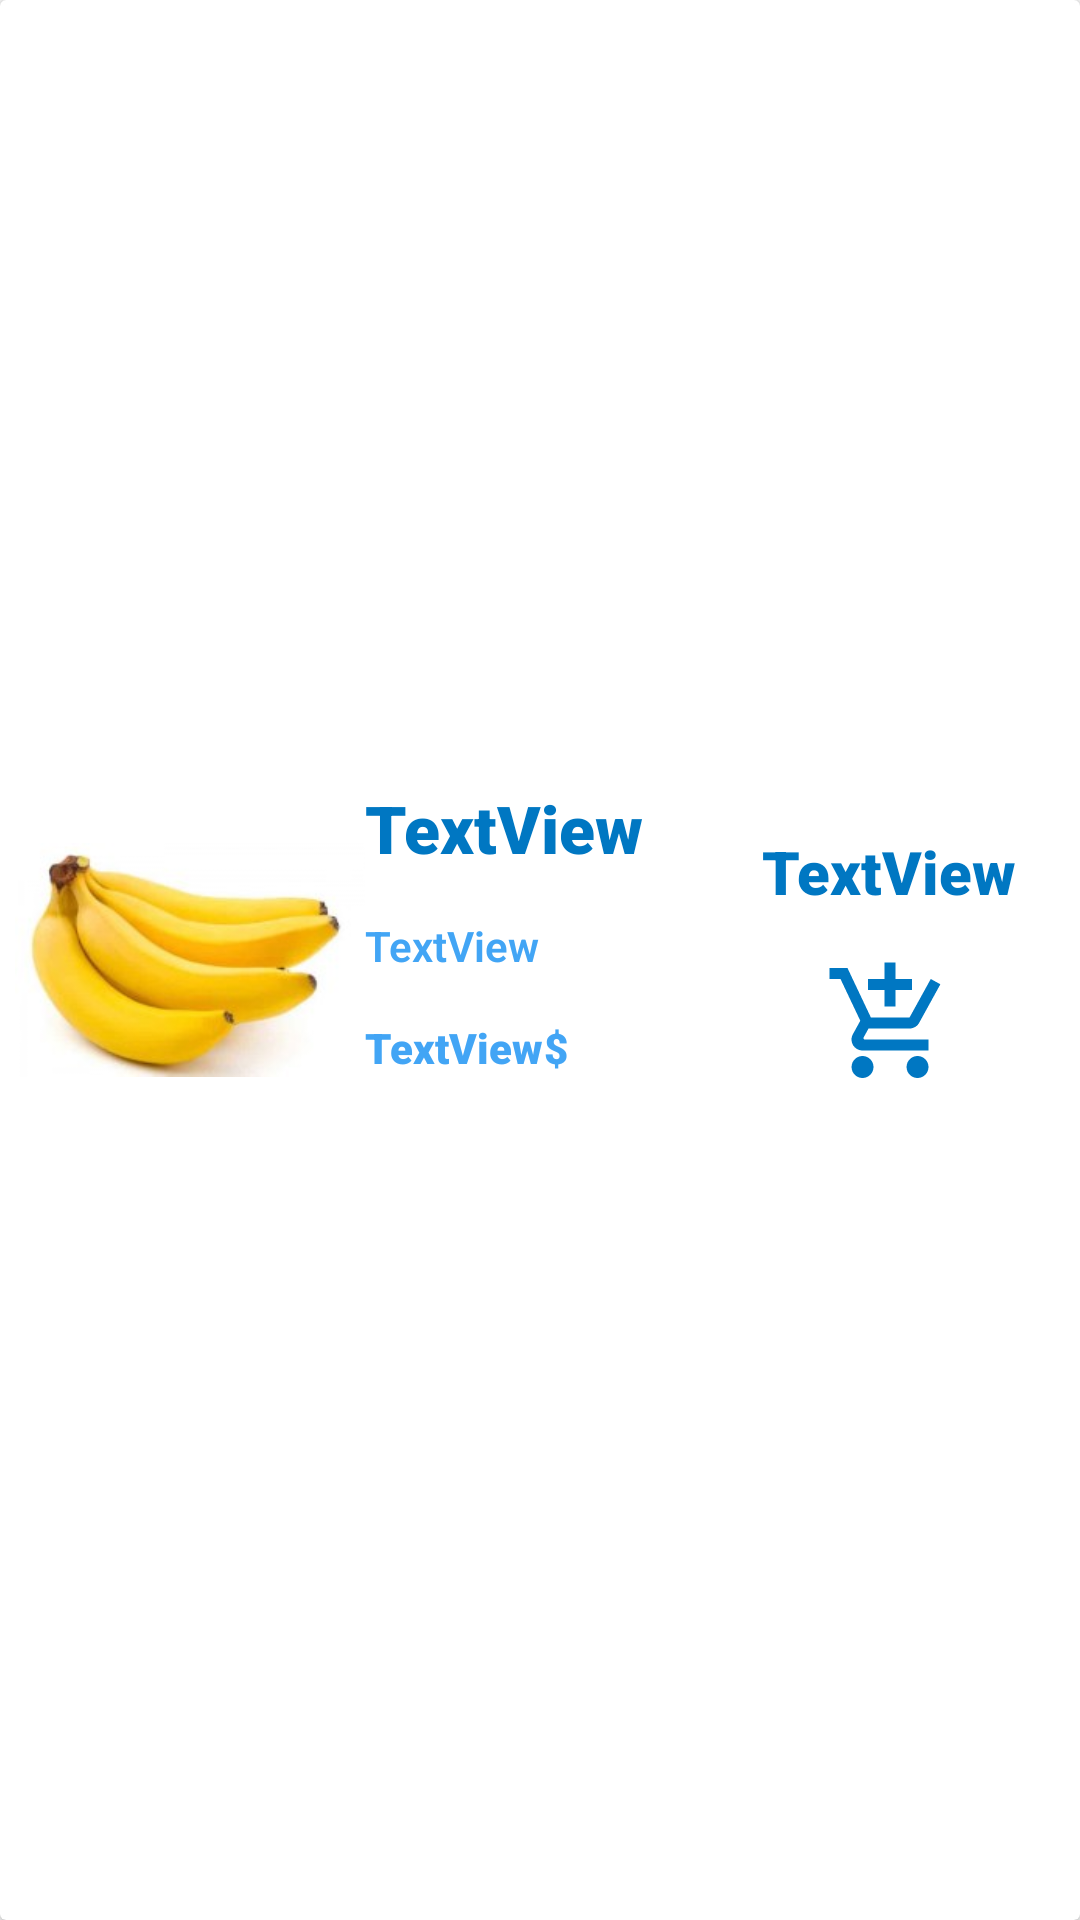

Where icons sit on this 1080px×1920px app screen, as (x1, y1, x2, y2):
add shopping cart: (829, 962, 941, 1078)
guineos: (30, 854, 341, 1077)
